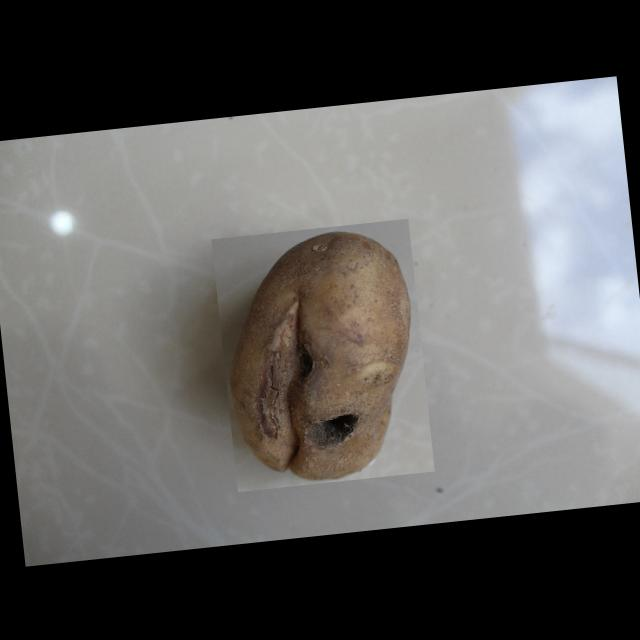Damaged potato: (210, 218, 433, 490)
